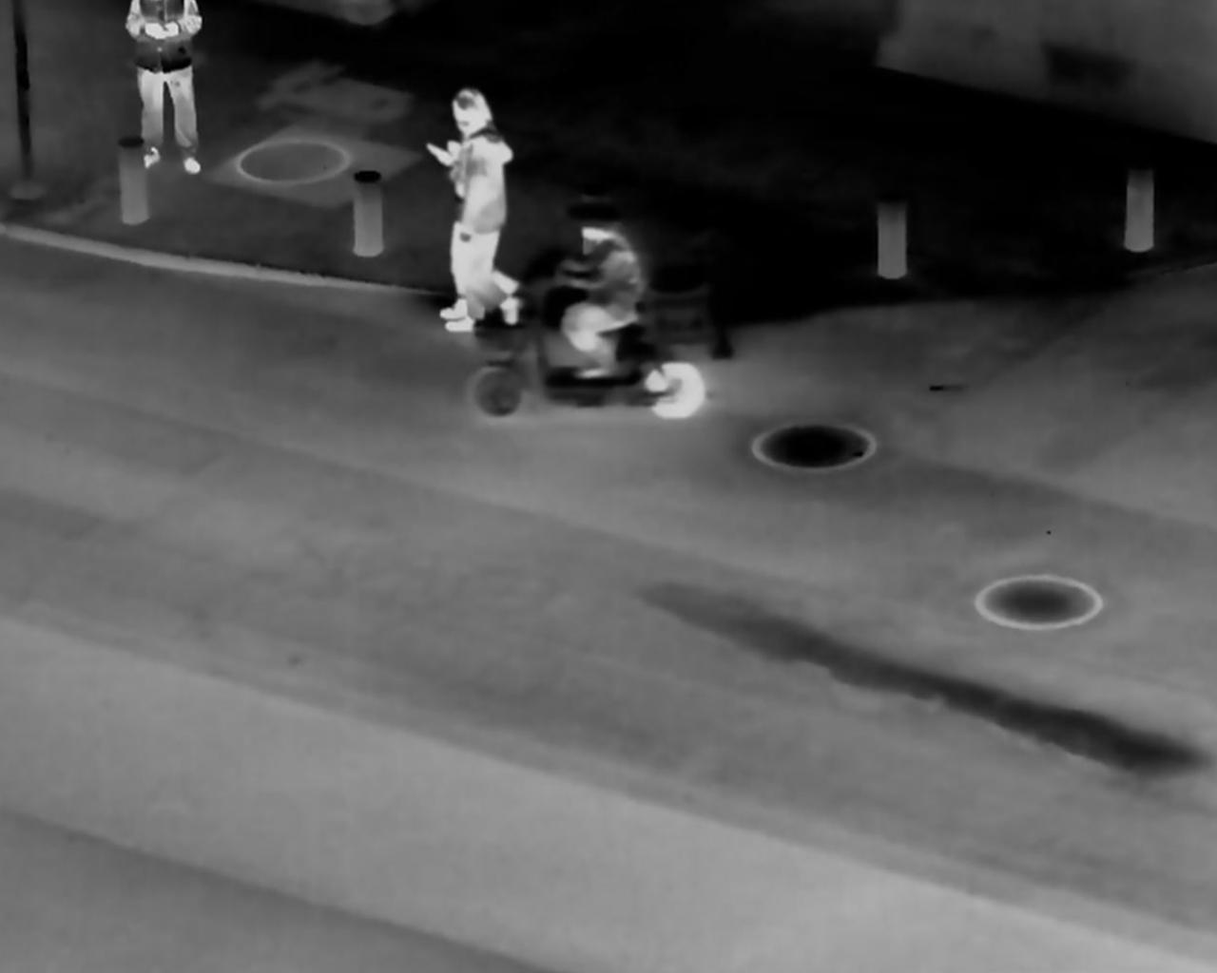person: (419, 82, 522, 348), (543, 203, 648, 410)
